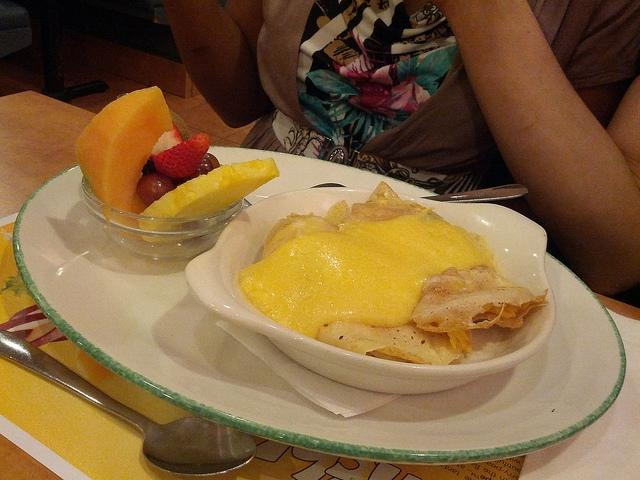grape: (137, 172, 177, 206), (204, 153, 220, 169), (190, 168, 211, 180), (199, 158, 214, 172)
pineapple: (139, 158, 280, 218)
strawberry: (152, 132, 210, 179), (148, 123, 182, 159)
